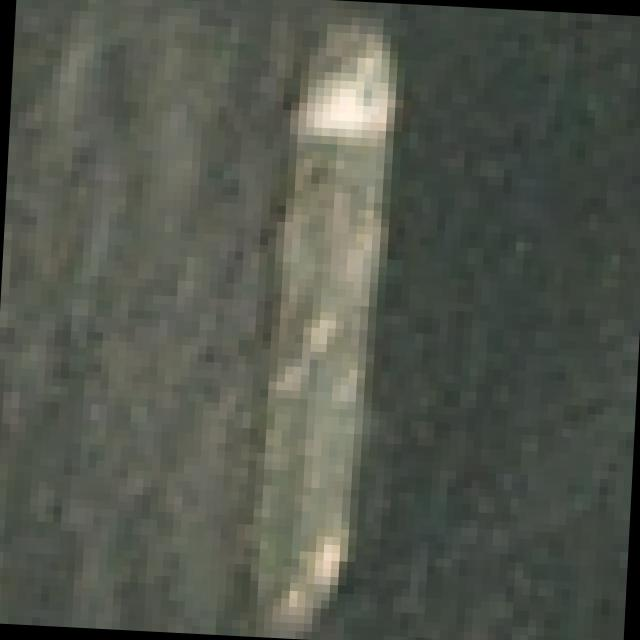ship: (176, 6, 482, 640)
